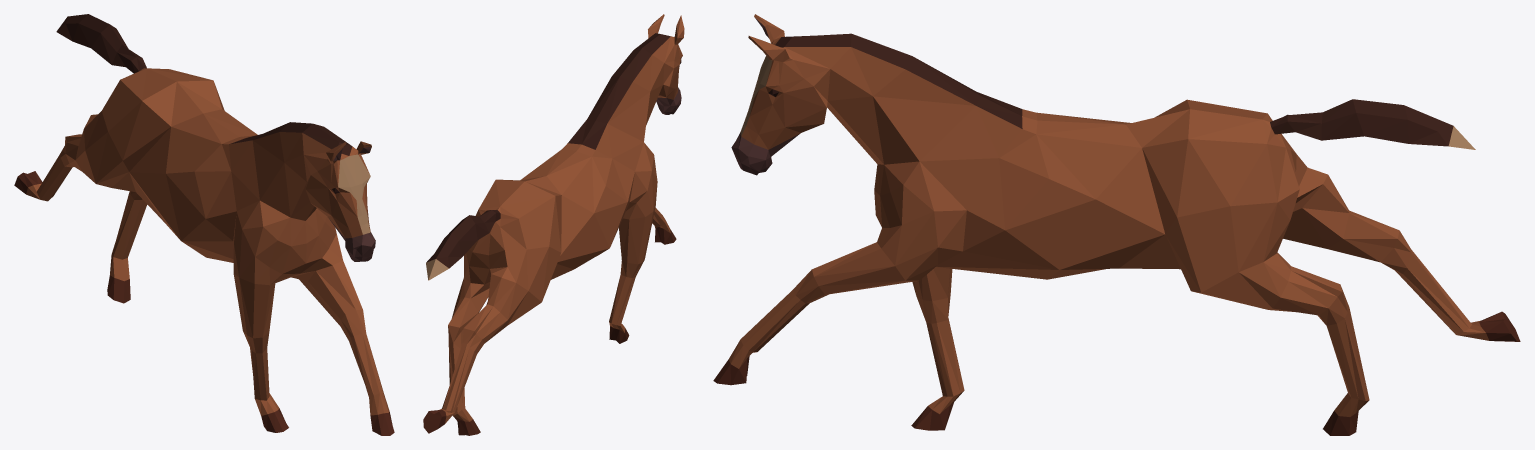
File: horse-draco.gltf
3 views of the same model, side by side, from view 1: azimuth 30°, elevation 25°; view 2: azimuth 150°, elevation 25°; view 3: azimuth 270°, elevation 25° (orthographic). The views are drawn at different scales.
Bounding box in the file's own units: 61.09 × 182 × 322.
